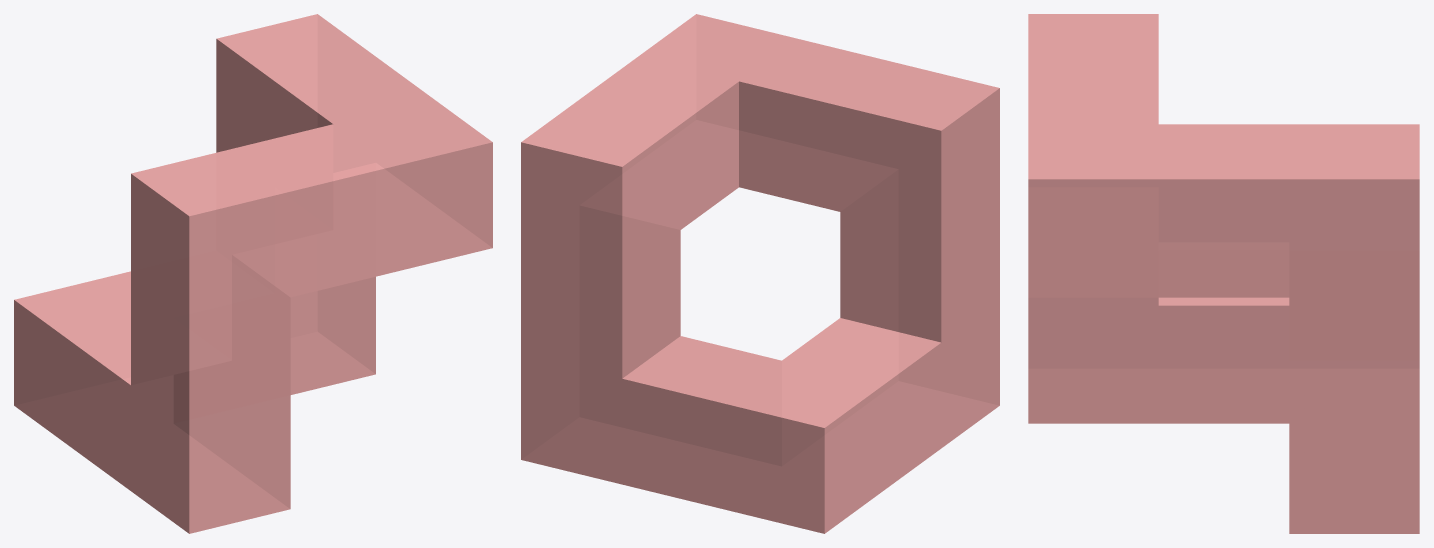
File: HexagonalToroid_H.obj
3 renders of one model, left to right at view 1: azimuth 30°, elevation 25°; view 2: azimuth 150°, elevation 25°; view 3: azimuth 270°, elevation 25°, orthographic. The views are drawn at different scales.
Bounding box in the file's own units: 6 × 6 × 6.
